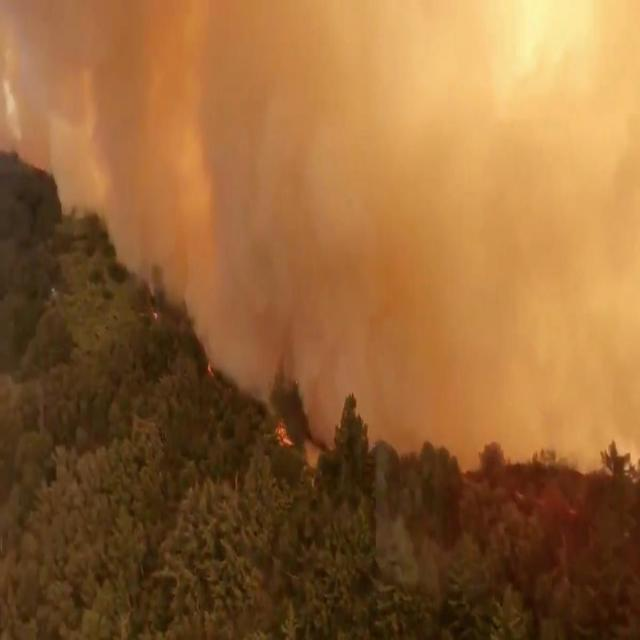Smoke: (224, 0, 640, 445), (9, 0, 254, 325)
